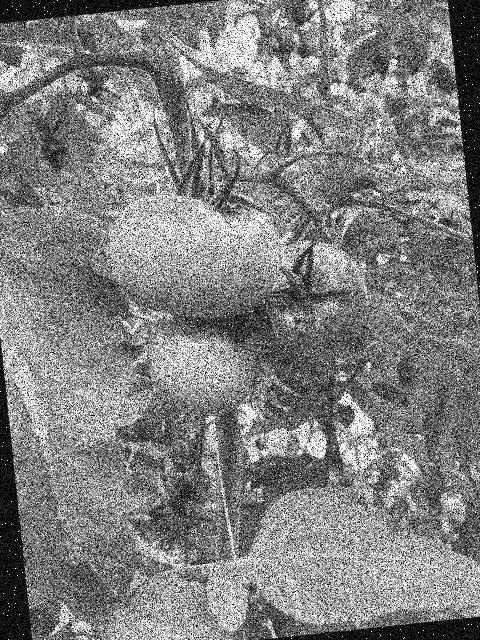b_green: (101, 182, 288, 330), (231, 234, 376, 378), (142, 305, 264, 423)
